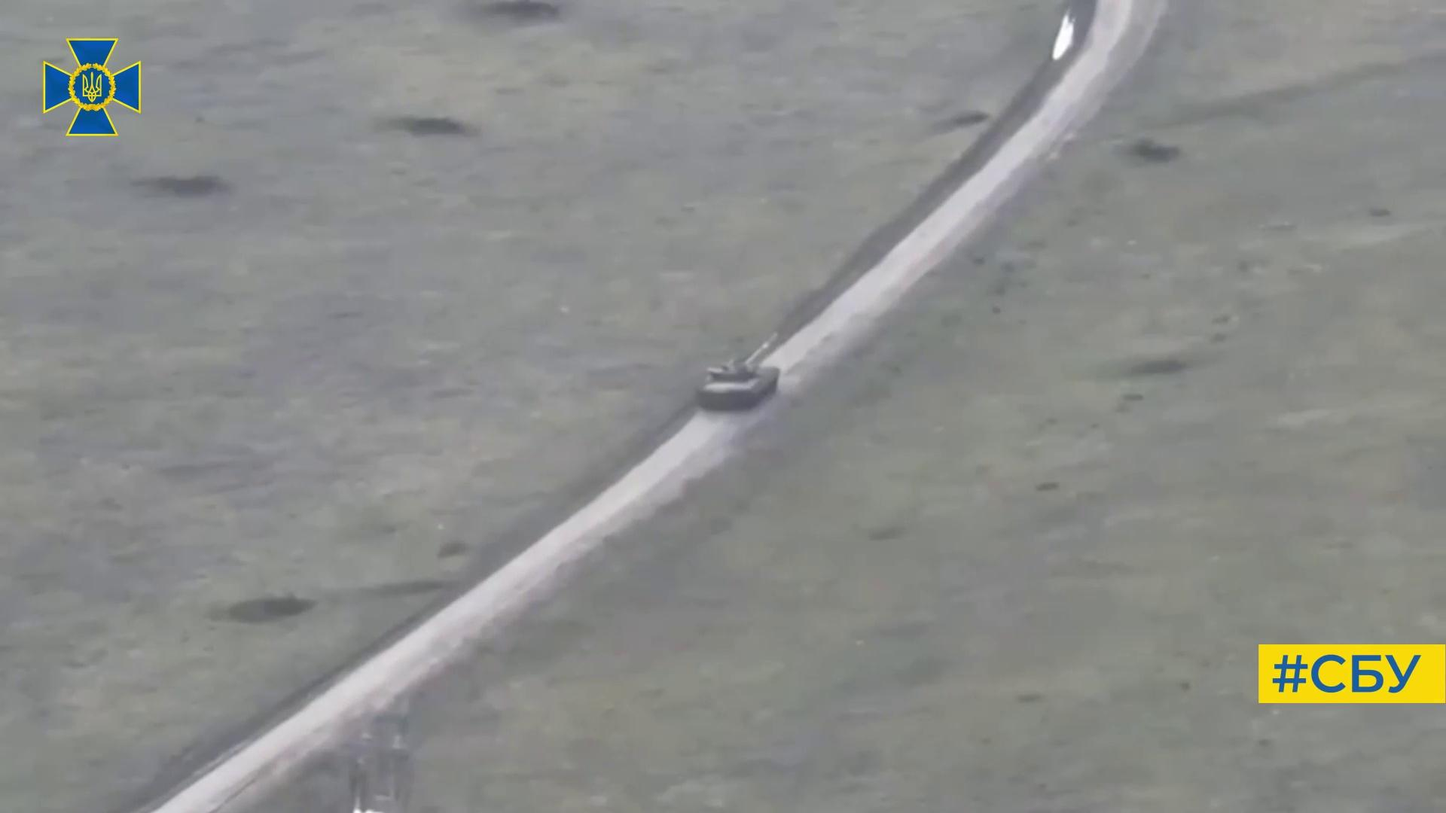vehicle: (697, 332, 782, 409)
